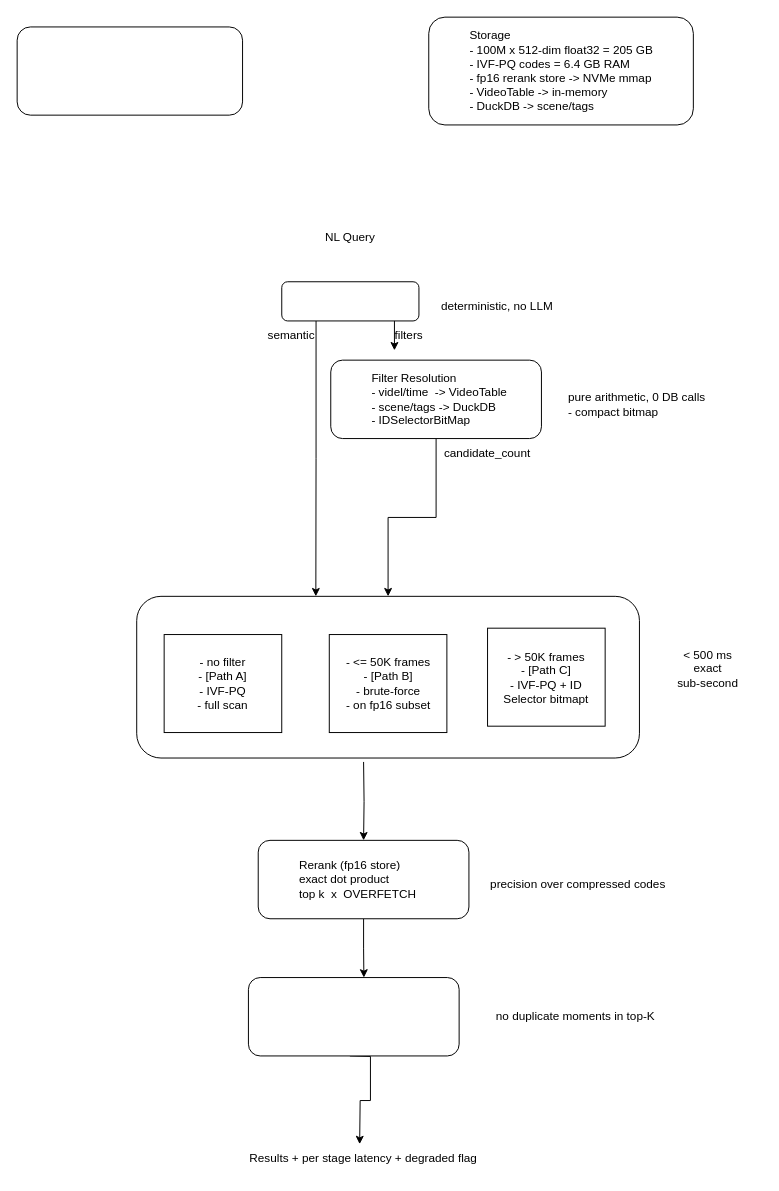
This 779x1191 diagram has some shape labels left out. Each missing label, with the centre of its shape:
Constraints - 100M+ frames - Sub-second latency - Natural language input: the point at 129,70
Diversify group by (video_id, floor(ts /5s)): the point at 353,1016
Query Parser regex rules: the point at 350,301
